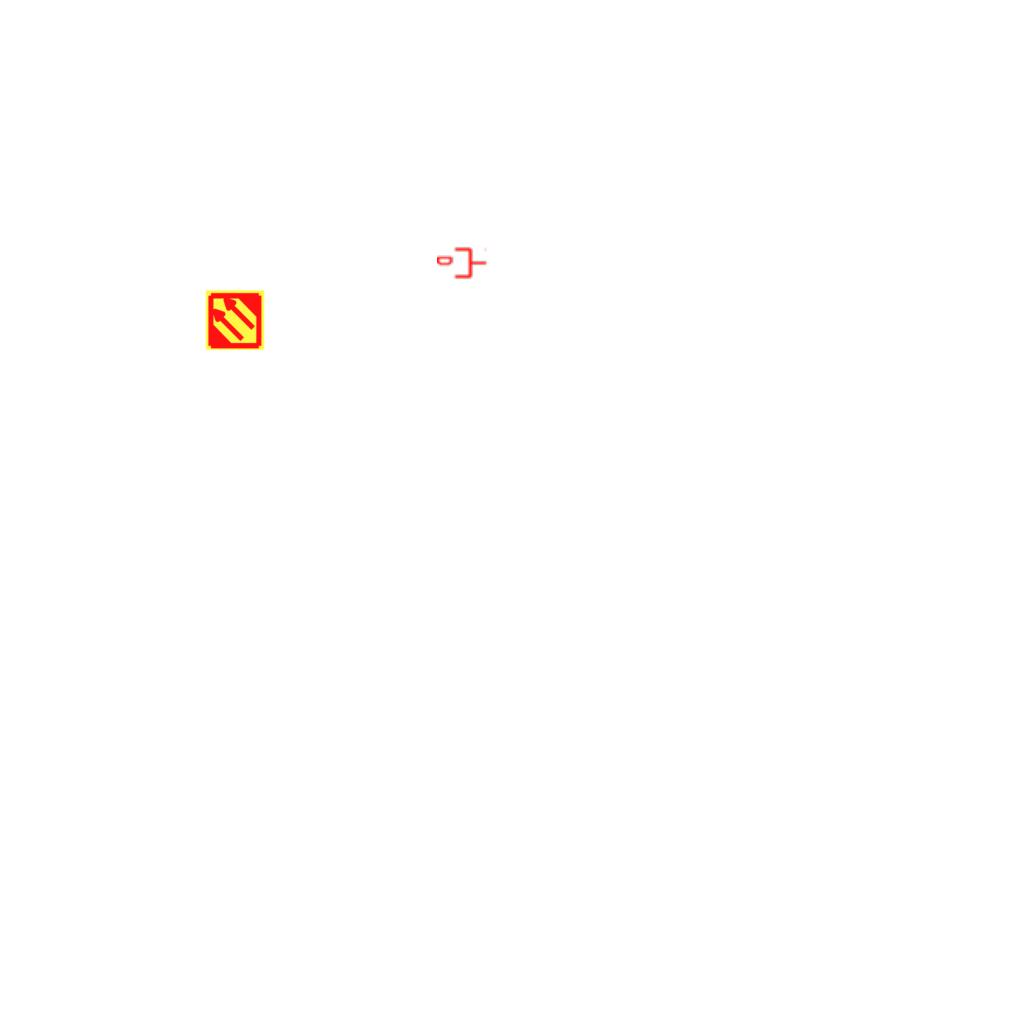ASR_Ansaugrauchmelder: (204, 289, 266, 351)
Datenanschluss_einfach: (437, 246, 487, 280)
